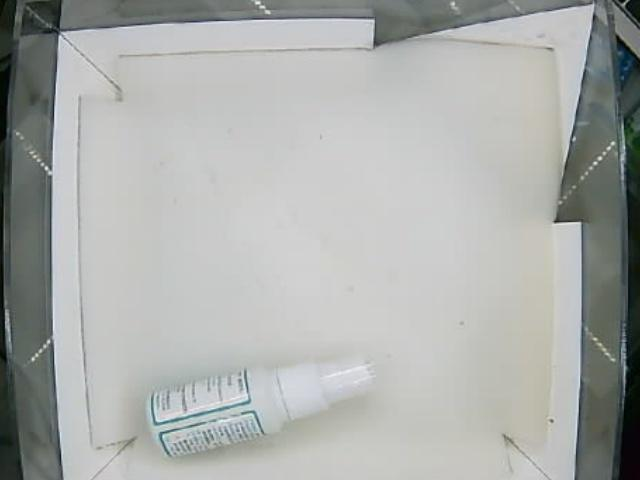Bottle: (149, 354, 373, 457)
